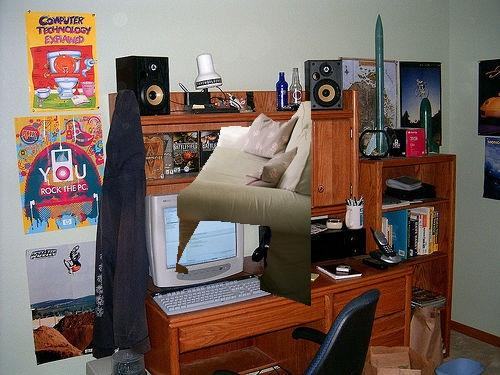tampered: (176, 102, 311, 306)
